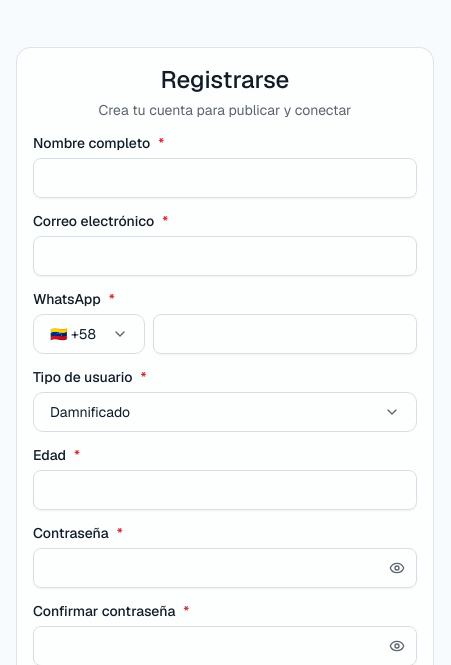
Test: RegisterPage › volunteerType requirement per role › requires a volunteer type when the role is voluntario
The width and height of the screenshot is (451, 665).
Click the dropdown named "Tipo de usuario" at (90, 412), box [33,392,417,432]
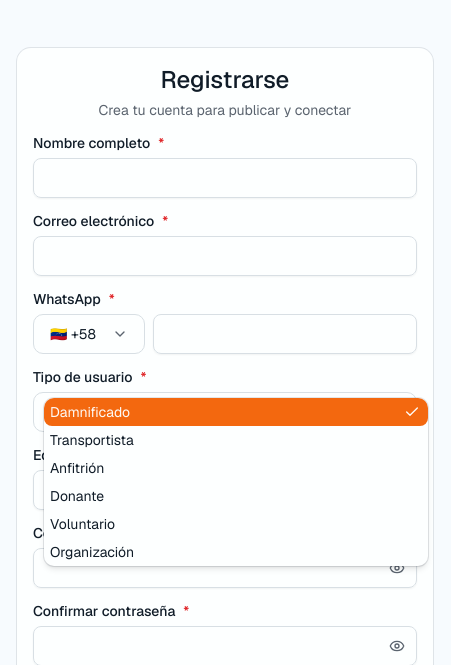
Click the option "Voluntario" at (83, 524), box [50,515,115,533]
(page scrolled)
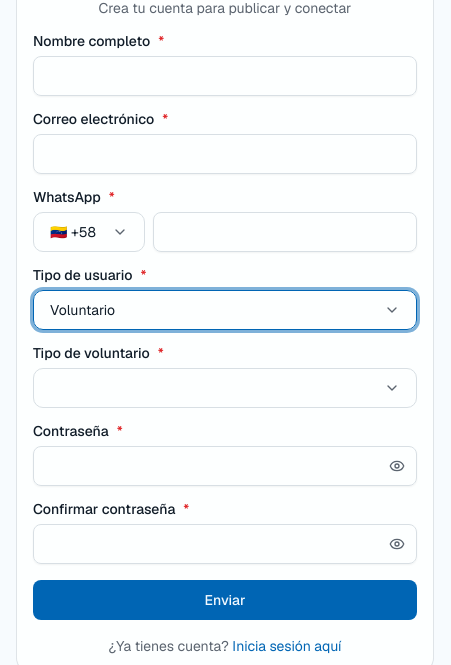
Click the button "Enviar" at (225, 600), box [33,580,417,620]
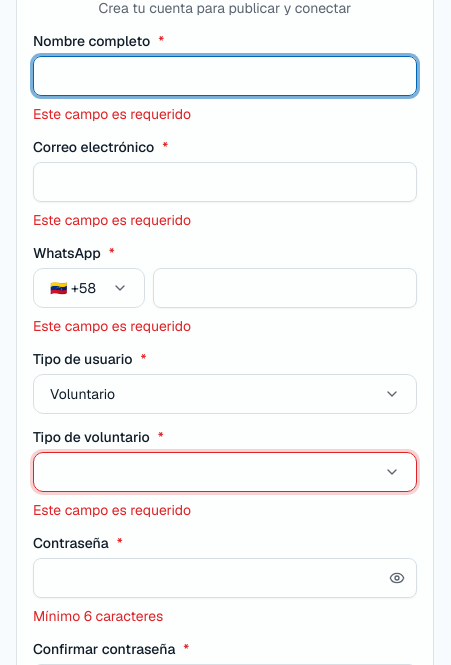
Result: the text "Este campo es requerido" below "Tipo de voluntario" is shown at [33,501,191,519]
